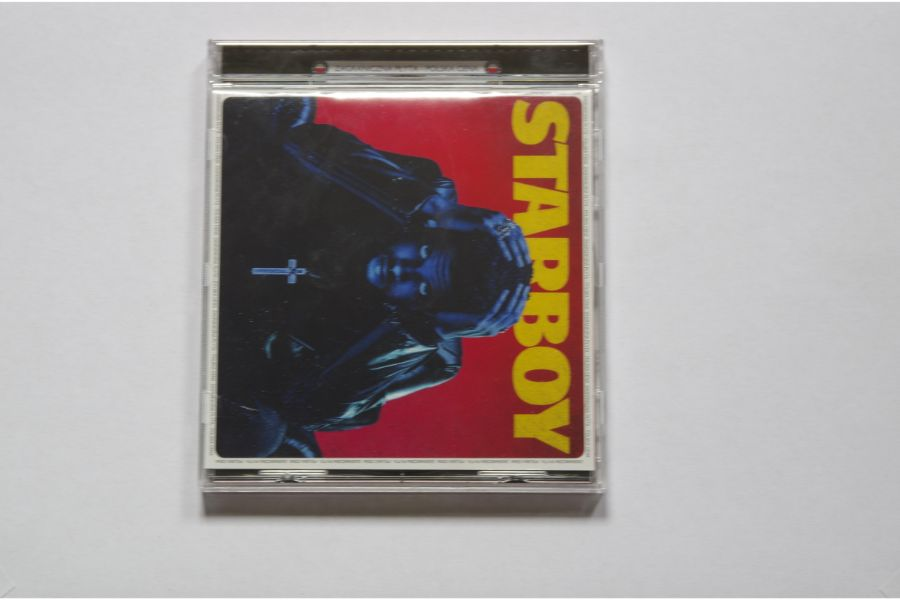album: (199, 37, 614, 499)
